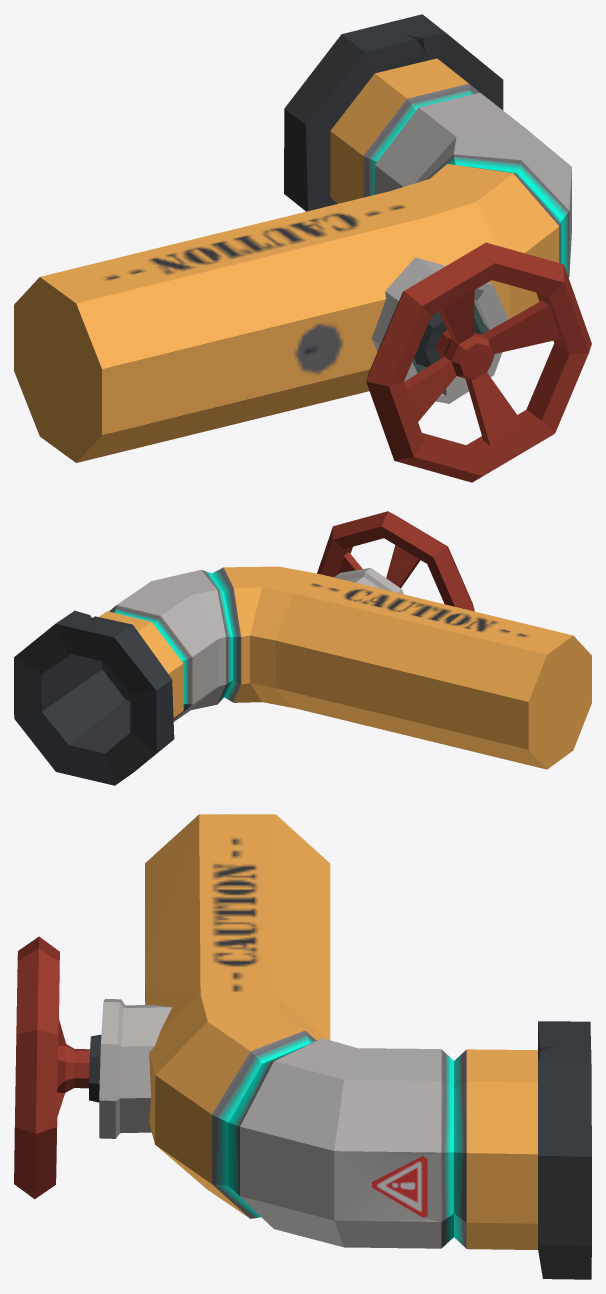
The model's file is SM_Bld_Pipe_Small_End_01.fbx.
The picture shows the model from 3 angles, top to bottom: view 1: azimuth 30°, elevation 25°; view 2: azimuth 150°, elevation 25°; view 3: azimuth 270°, elevation 25°; orthographic projection. The views are drawn at different scales.
Parts seen in each view (by area): view 1: SM_Bld_Pipe_Small_End_01, SM_Bld_Pipe_End_Valve; view 2: SM_Bld_Pipe_Small_End_01, SM_Bld_Pipe_End_Valve; view 3: SM_Bld_Pipe_Small_End_01, SM_Bld_Pipe_End_Valve.
Part boxes in pixels (left/top/right/bottom): SM_Bld_Pipe_Small_End_01: left=14, top=14, right=571, bottom=462; SM_Bld_Pipe_End_Valve: left=366, top=242, right=591, bottom=482; SM_Bld_Pipe_Small_End_01: left=14, top=566, right=591, bottom=785; SM_Bld_Pipe_End_Valve: left=317, top=511, right=474, bottom=611; SM_Bld_Pipe_Small_End_01: left=89, top=814, right=591, bottom=1279; SM_Bld_Pipe_End_Valve: left=14, top=936, right=89, bottom=1199.
Bounding box in the file's own units: 180 × 68.48 × 145.
